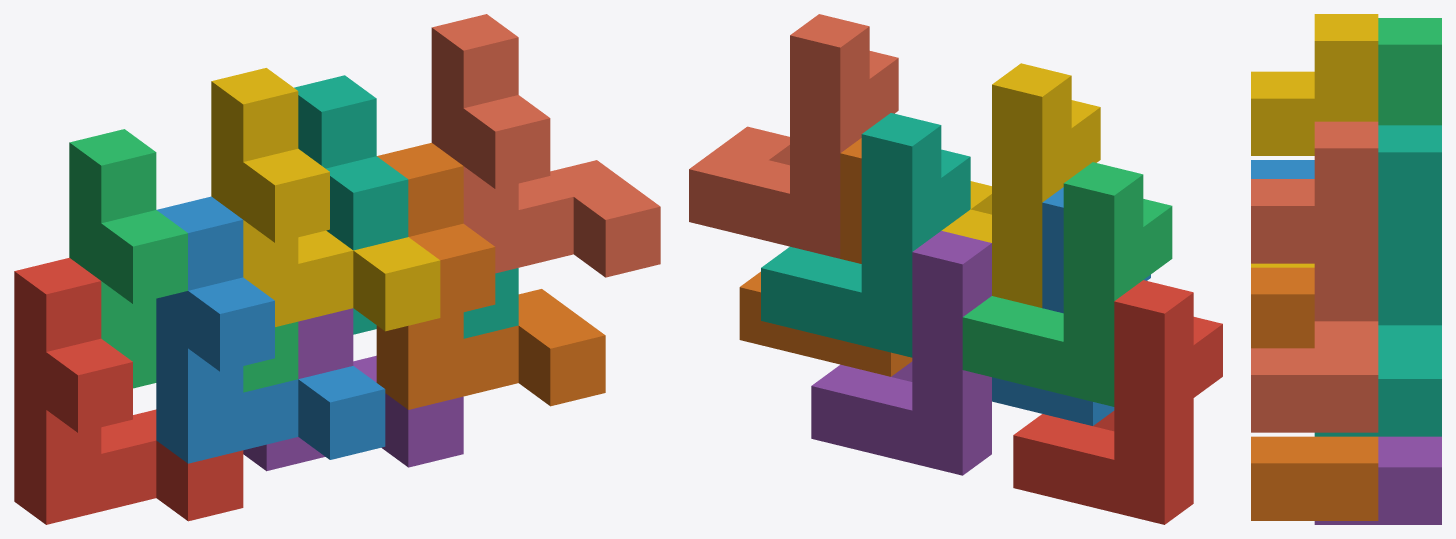
Rendered from tiling.obj.
3 views of the same model, side by side, from view 1: azimuth 30°, elevation 25°; view 2: azimuth 150°, elevation 25°; view 3: azimuth 270°, elevation 25° (orthographic). The views are drawn at different scales.
Visible parts, largest first — view 1: copy_1_domain_1, copy_1_domain_8, copy_1_domain_2, copy_1_domain_4, copy_1_domain_6, copy_1_domain_3, copy_1_domain_7, copy_1_domain_5; view 2: copy_1_domain_1, copy_1_domain_8, copy_1_domain_3, copy_1_domain_7, copy_1_domain_5, copy_1_domain_4, copy_1_domain_6, copy_1_domain_2; view 3: copy_1_domain_8, copy_1_domain_7, copy_1_domain_6, copy_1_domain_4, copy_1_domain_3, copy_1_domain_5, copy_1_domain_2.
Part boxes in pixels (x1,y1,x2,y2): copy_1_domain_1: (14, 257, 243, 524); copy_1_domain_8: (431, 14, 660, 277); copy_1_domain_2: (156, 196, 385, 463); copy_1_domain_4: (211, 68, 440, 331); copy_1_domain_6: (376, 142, 605, 409); copy_1_domain_3: (69, 129, 298, 392); copy_1_domain_7: (294, 75, 518, 338); copy_1_domain_5: (243, 308, 463, 471); copy_1_domain_1: (1013, 280, 1222, 524); copy_1_domain_8: (689, 14, 898, 258); copy_1_domain_3: (962, 162, 1172, 406); copy_1_domain_7: (761, 113, 970, 357); copy_1_domain_5: (811, 231, 991, 475); copy_1_domain_4: (941, 63, 1100, 307); copy_1_domain_6: (739, 138, 912, 376); copy_1_domain_2: (992, 187, 1150, 425); copy_1_domain_8: (1251, 121, 1378, 432); copy_1_domain_7: (1314, 125, 1441, 436); copy_1_domain_6: (1251, 267, 1378, 520); copy_1_domain_4: (1251, 14, 1378, 267); copy_1_domain_3: (1378, 18, 1441, 125); copy_1_domain_5: (1314, 436, 1441, 524); copy_1_domain_2: (1251, 160, 1314, 178).
Size of the model in its own units: 10 by 7 by 3.
